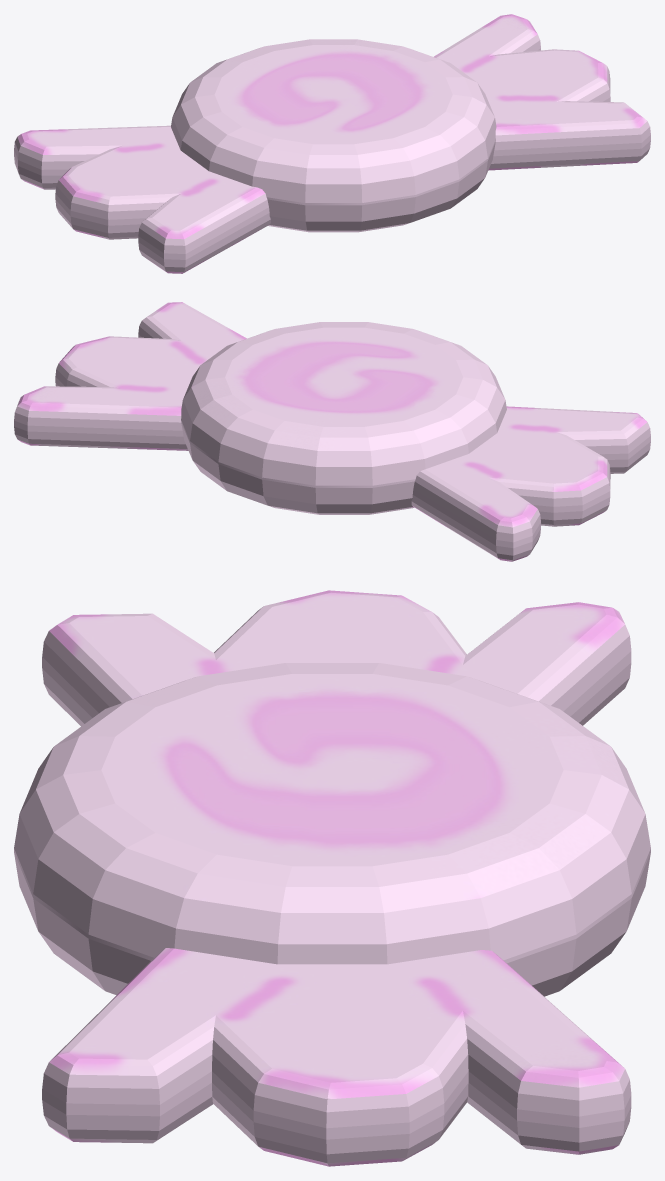
Rendered from sweet.FBX.
3 views of the same model, one above another, from view 1: azimuth 30°, elevation 25°; view 2: azimuth 150°, elevation 25°; view 3: azimuth 270°, elevation 25° (orthographic). The views are drawn at different scales.
Parts seen in each view (by area): view 1: Cylinder012; view 2: Cylinder012; view 3: Cylinder012.
Boxes of the visible parts, x1,y1,x2,y2 form: Cylinder012: [14, 14, 650, 273]; Cylinder012: [14, 302, 650, 561]; Cylinder012: [14, 590, 650, 1166].
Bounding box in the file's own units: 34.01 × 4.97 × 17.91.
